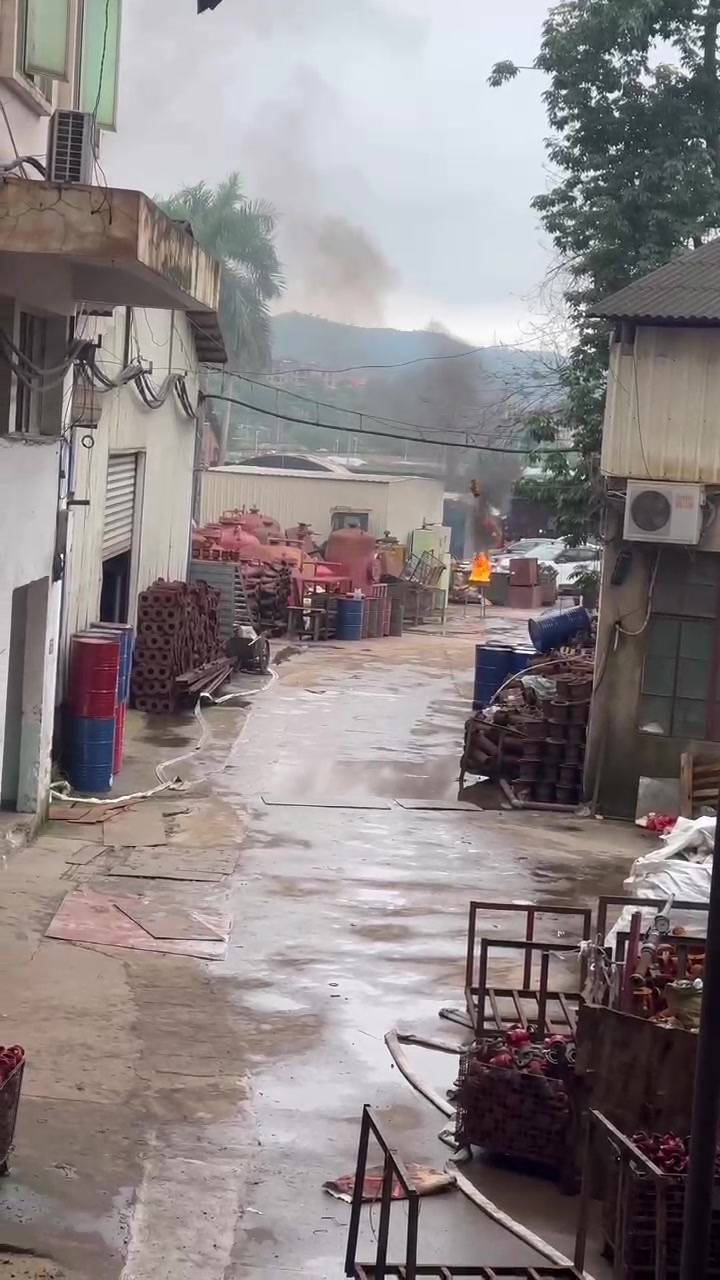fire: (468, 552, 490, 581)
